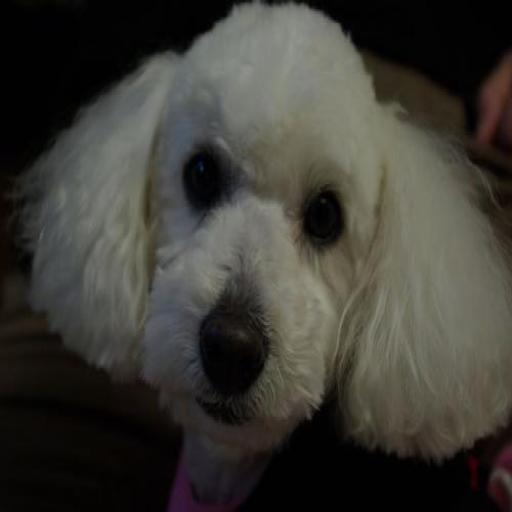dog_face: (25, 11, 507, 458)
